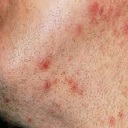Carbuncle: (38, 59, 54, 70)
